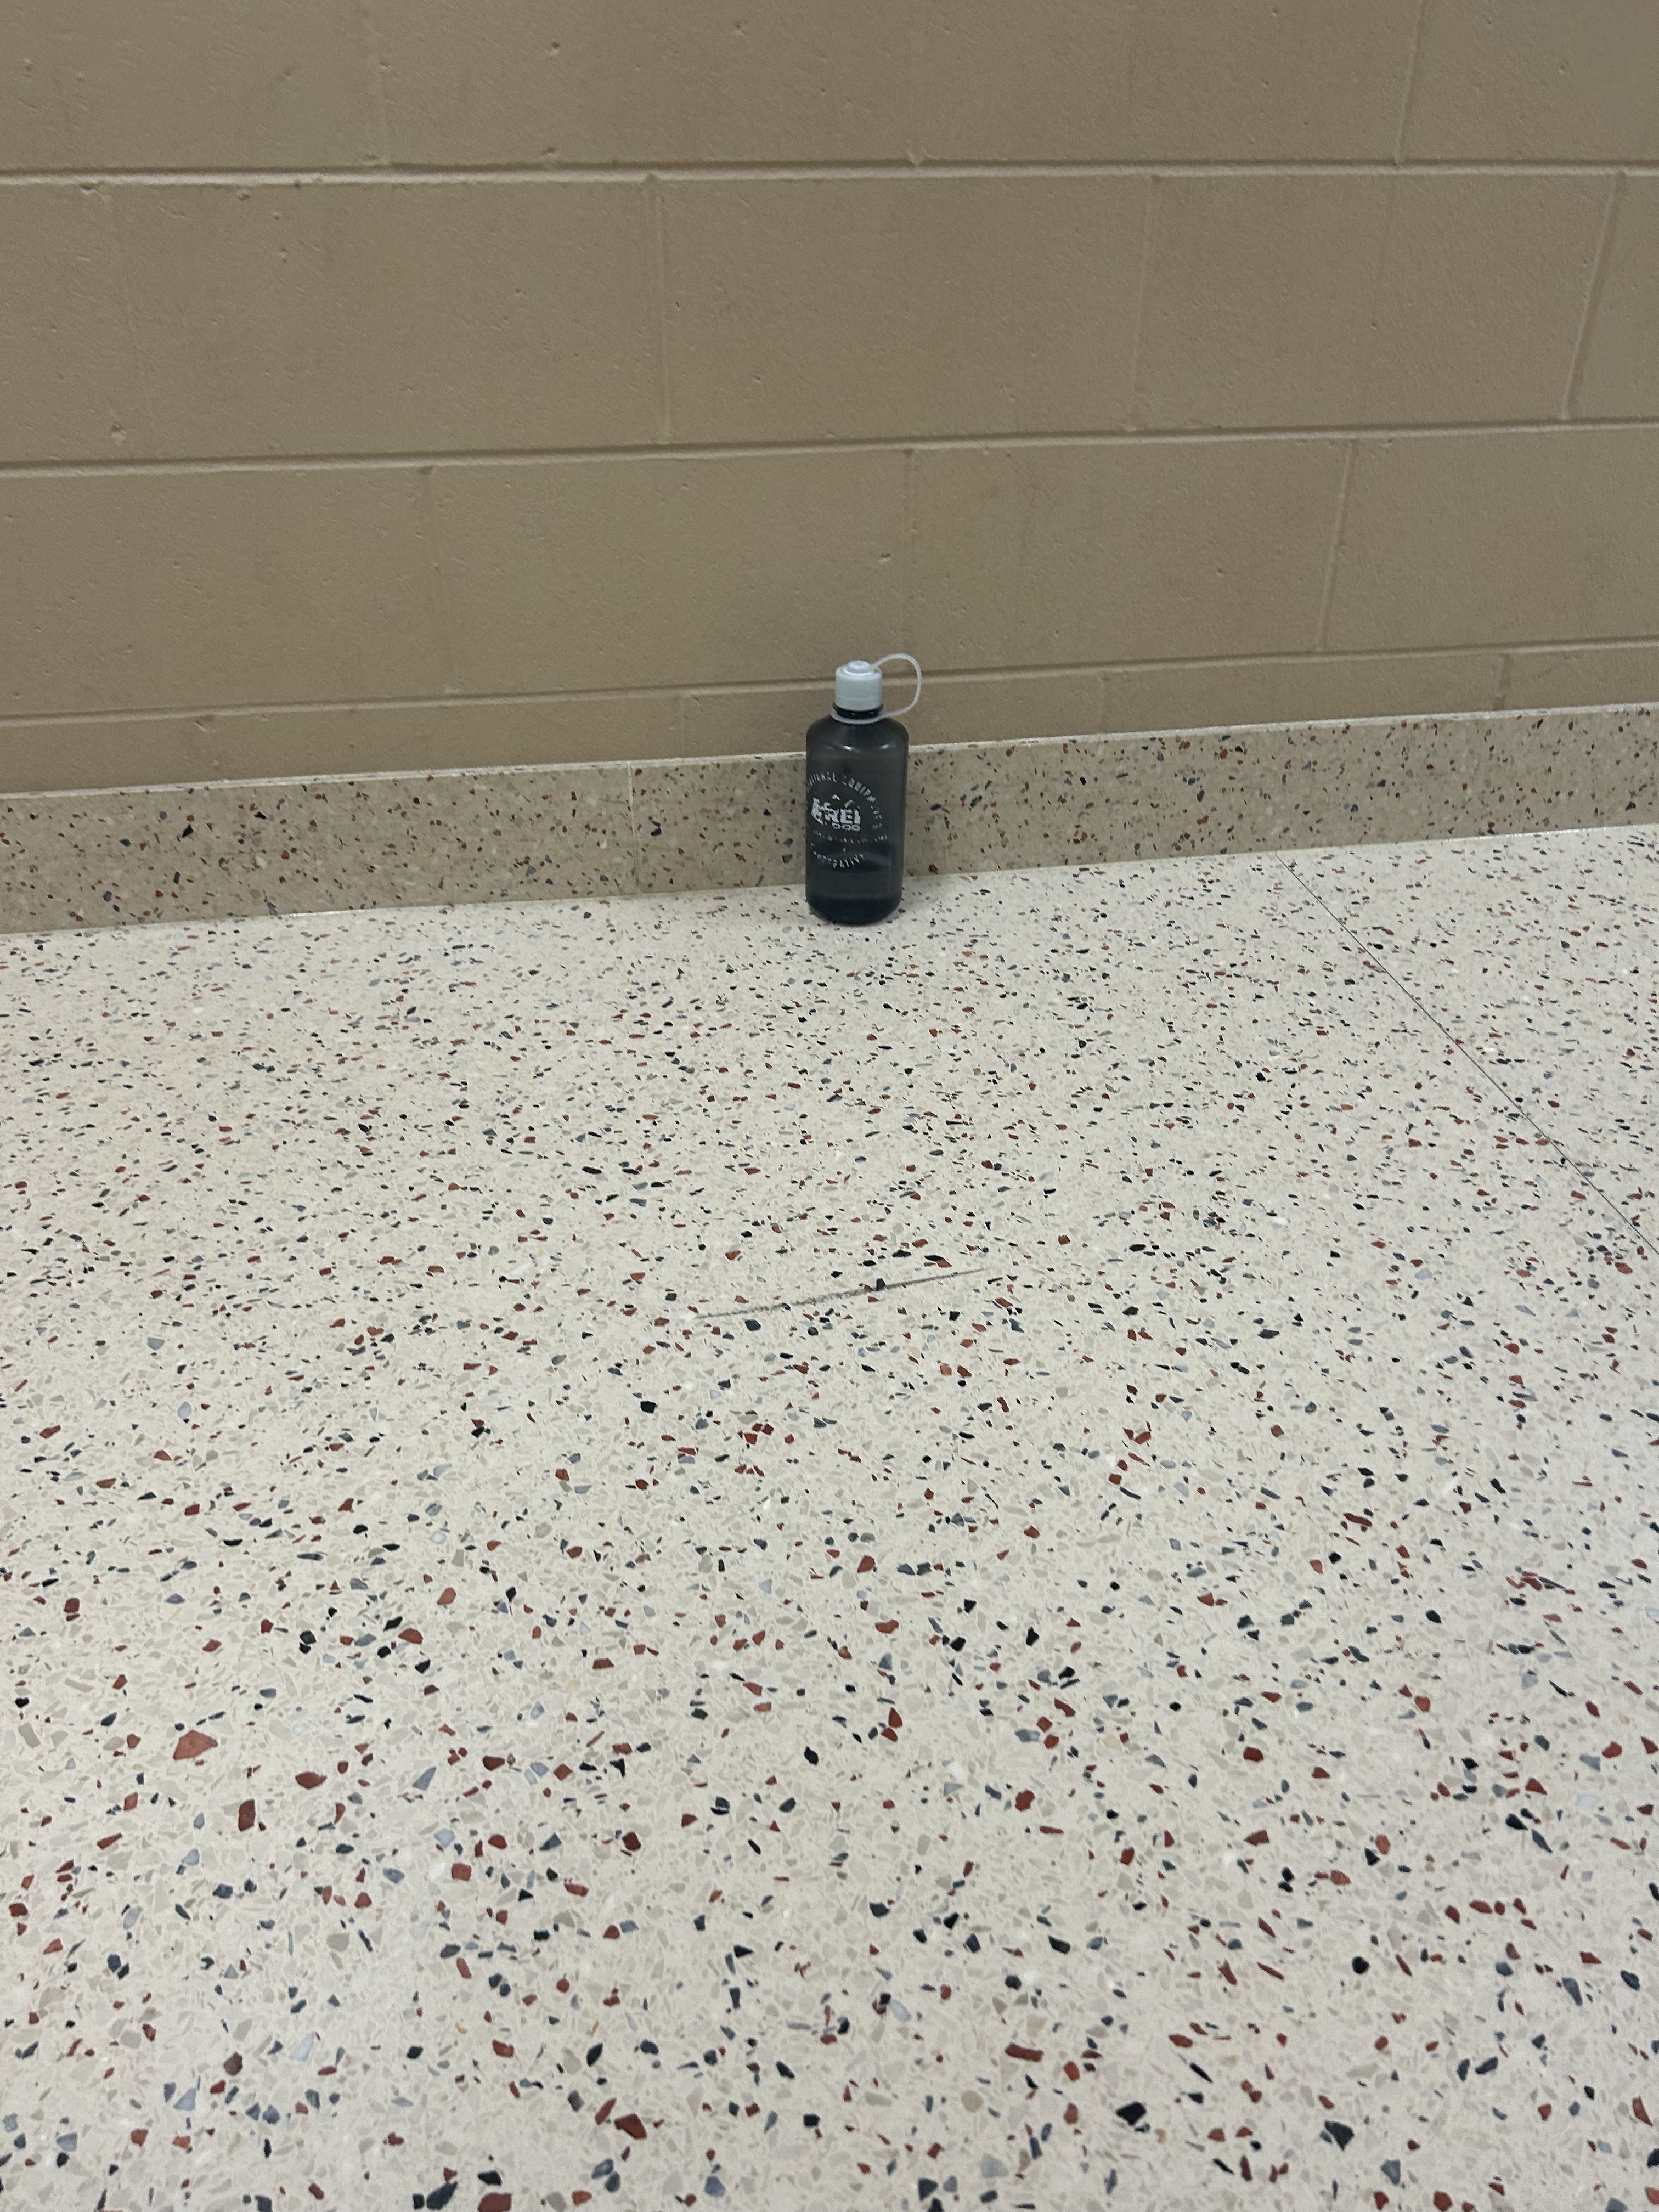bottle: (805, 643, 925, 935)
